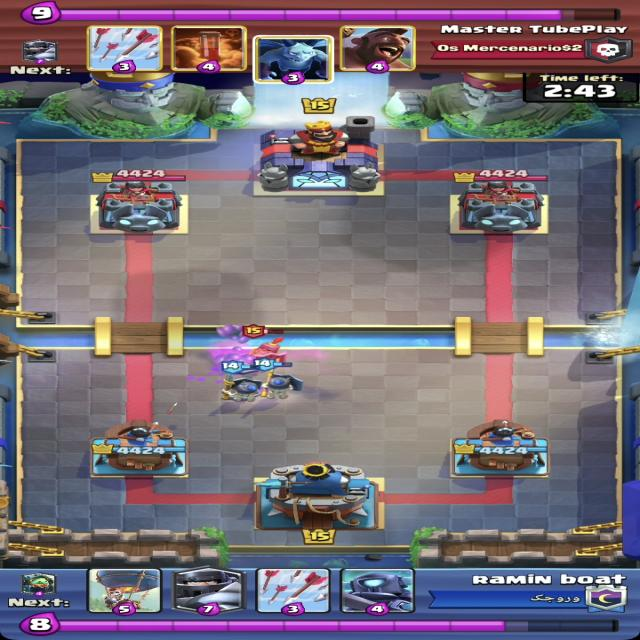Enemy-Guard: (241, 323, 286, 365)
Player-Guard: (253, 356, 306, 399), (220, 360, 265, 402)
